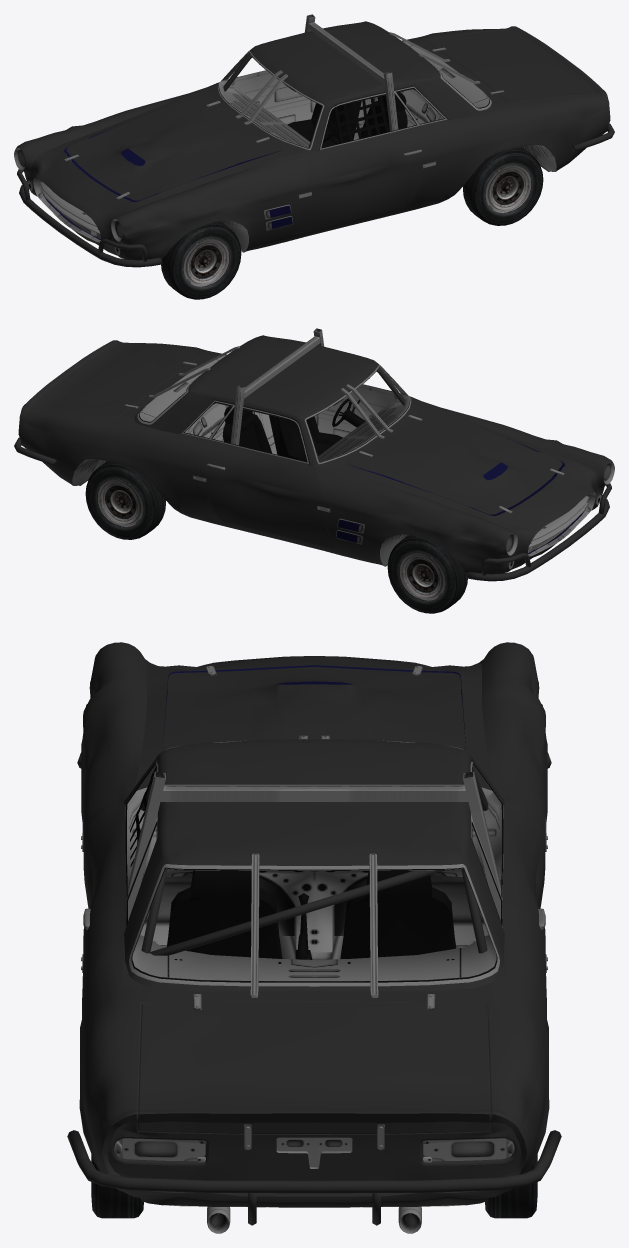
File: derby_car_01.fbx
3 views of the same model, one above another, from view 1: azimuth 30°, elevation 25°; view 2: azimuth 150°, elevation 25°; view 3: azimuth 270°, elevation 25° (orthographic). The views are drawn at different scales.
Parts seen in each view (by area): view 1: body, interior, wheel_02, wheel_01, derby_kit, bottom, bumpers, windows_frame, void; view 2: body, interior, wheel_03, wheel_04, derby_kit, bottom, bumpers, windows_frame, void; view 3: body, interior, derby_kit, bumpers, bottom, windows_frame, chrome, wheel_02, wheel_03, void.
Boxes of the visible parts, left/top/right/bottom form: body: left=16, top=21, right=610, bottom=260; interior: left=219, top=41, right=489, bottom=149; wheel_02: left=463, top=147, right=543, bottom=225; wheel_01: left=161, top=221, right=241, bottom=299; derby_kit: left=64, top=14, right=504, bottom=199; bottom: left=14, top=144, right=556, bottom=254; bumpers: left=17, top=53, right=614, bottom=267; windows_frame: left=217, top=24, right=491, bottom=150; void: left=43, top=125, right=292, bottom=239; body: left=18, top=335, right=612, bottom=574; interior: left=139, top=355, right=409, bottom=463; wheel_03: left=85, top=461, right=165, bottom=539; wheel_04: left=387, top=535, right=467, bottom=613; derby_kit: left=124, top=328, right=564, bottom=513; bottom: left=72, top=458, right=614, bottom=568; bumpers: left=14, top=367, right=611, bottom=581; windows_frame: left=137, top=338, right=411, bottom=464; void: left=336, top=439, right=585, bottom=553; body: left=79, top=642, right=549, bottom=1207; interior: left=127, top=762, right=501, bottom=981; derby_kit: left=81, top=666, right=547, bottom=1150; bumpers: left=67, top=704, right=561, bottom=1225; bottom: left=80, top=936, right=548, bottom=1207; windows_frame: left=125, top=740, right=503, bottom=986; chrome: left=82, top=817, right=546, bottom=1233; wheel_02: left=91, top=1154, right=143, bottom=1218; wheel_03: left=485, top=1154, right=537, bottom=1218; void: left=82, top=665, right=546, bottom=826.
Size of the model in its own units: 177 by 55.53 by 74.42.
